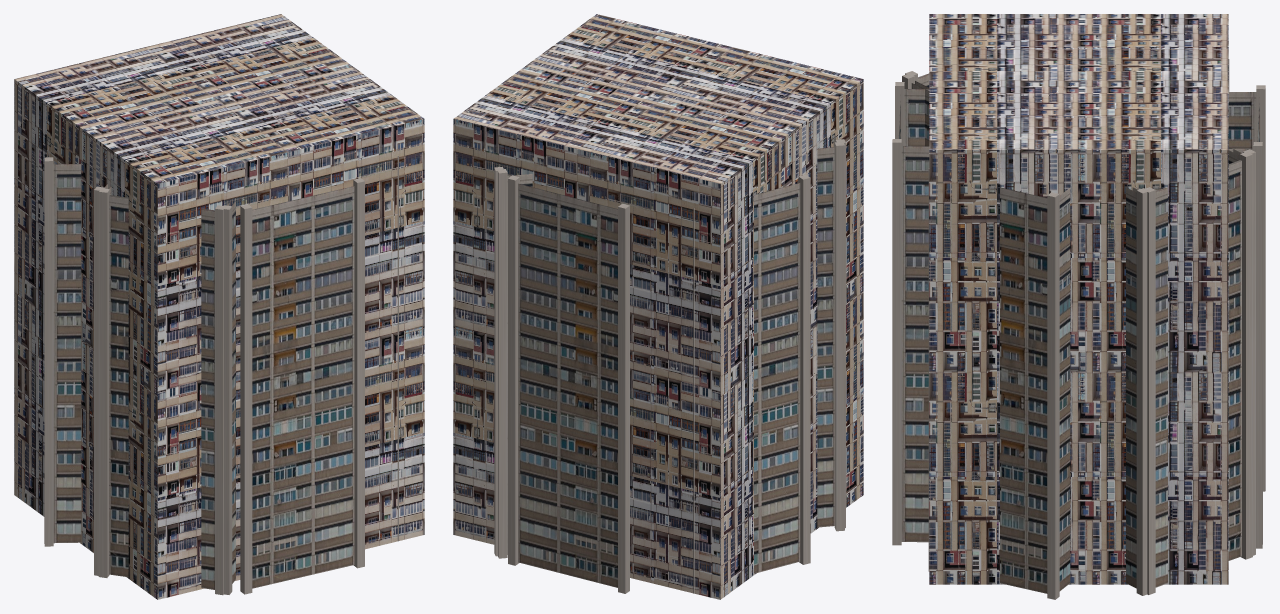
Rendered from city-kit.glb.
3 renders of one model, left to right at view 1: azimuth 30°, elevation 25°; view 2: azimuth 150°, elevation 25°; view 3: azimuth 270°, elevation 25°, orthographic. The views are drawn at different scales.
Parts seen in each view (by area): view 1: c8-32, c7-18, c7-20, c7-21, c7-19; view 2: c8-32, c7-18, c7-21, c7-20, c7-19; view 3: c8-32, c7-21, c7-18, c7-19, c7-20.
Boxes of the visible parts, box(x1,y1,x2,y2) form: c8-32: box(14, 14, 424, 599); c7-18: box(240, 178, 364, 594); c7-20: box(98, 186, 235, 594); c7-21: box(44, 140, 398, 546); c7-19: box(94, 184, 229, 595); c8-32: box(453, 14, 863, 599); c7-18: box(508, 175, 629, 593); c7-21: box(693, 174, 810, 593); c7-20: box(498, 137, 845, 558); c7-19: box(494, 137, 844, 556); c8-32: box(929, 14, 1228, 584); c7-21: box(928, 59, 1229, 599); c7-18: box(892, 82, 1265, 548); c7-19: box(905, 71, 1252, 595); c7-20: box(902, 74, 1255, 594).
Bounding box in the file's own units: 37.45 × 45.53 × 35.44.
21 materials, 20 textured.
